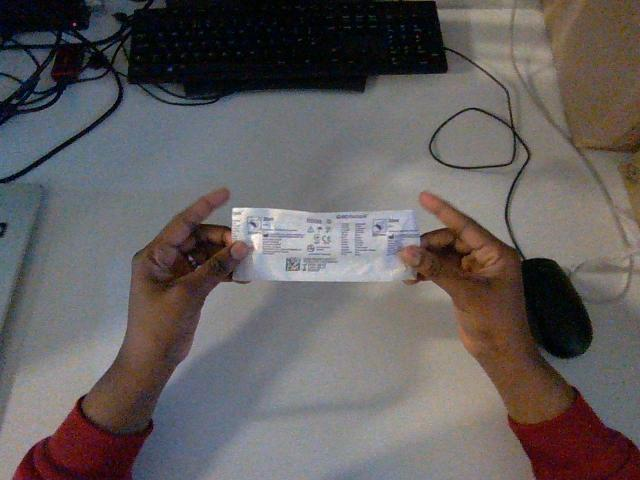syringe: (232, 208, 419, 281)
